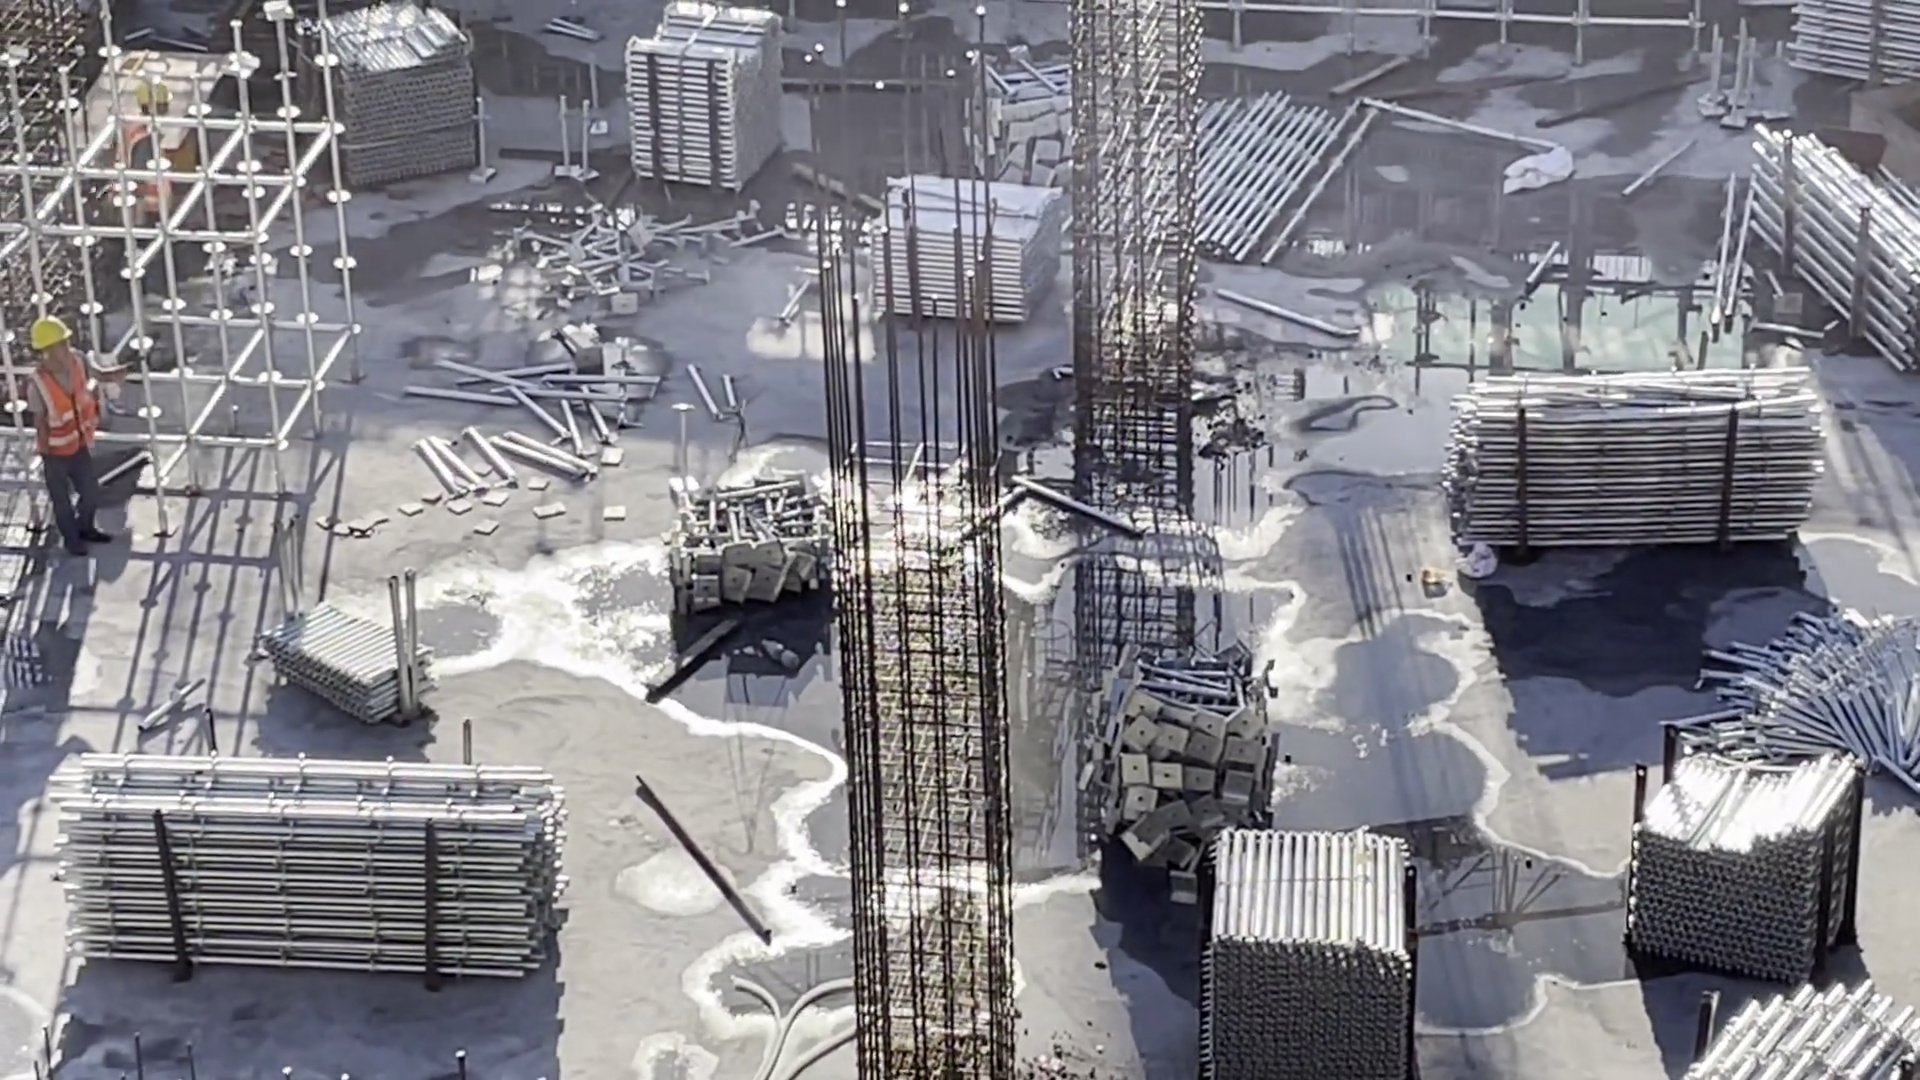cutter: (67, 39, 240, 202)
helmet: (25, 306, 85, 354), (134, 83, 166, 116)
person: (14, 323, 125, 541), (117, 79, 182, 268)
scaffold: (50, 750, 568, 993), (1448, 368, 1830, 561), (1196, 833, 1434, 1080), (1628, 738, 1867, 976), (1732, 114, 1920, 399), (1075, 651, 1295, 879), (1707, 605, 1920, 796), (1158, 95, 1385, 271), (306, 1, 480, 194), (859, 174, 1049, 333), (632, 12, 794, 176), (1678, 976, 1916, 1080), (256, 597, 443, 727), (956, 47, 1107, 195), (663, 478, 828, 597), (532, 212, 700, 316), (1777, 6, 1920, 79)
vest: (118, 113, 170, 205)
